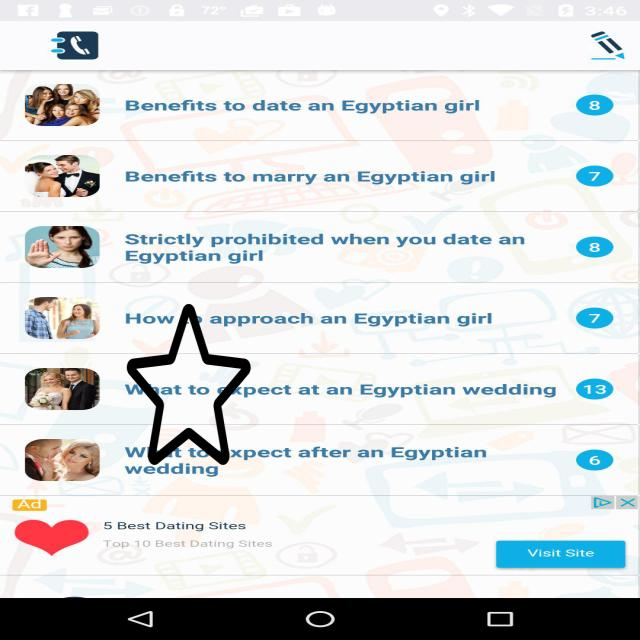forced continuity: (127, 301, 250, 468)
